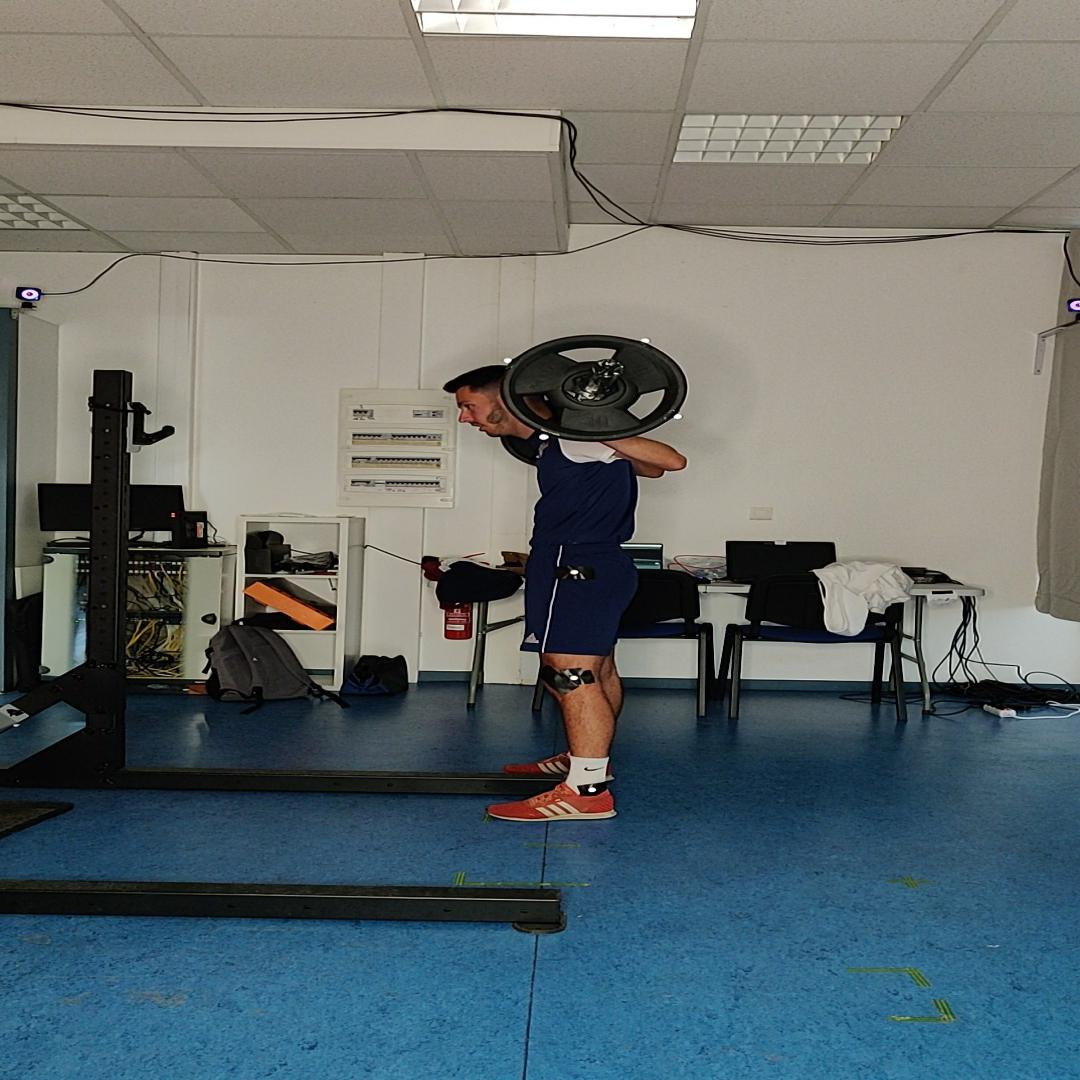Bar: (592, 359, 623, 378)
Barbell: (500, 334, 688, 442)
